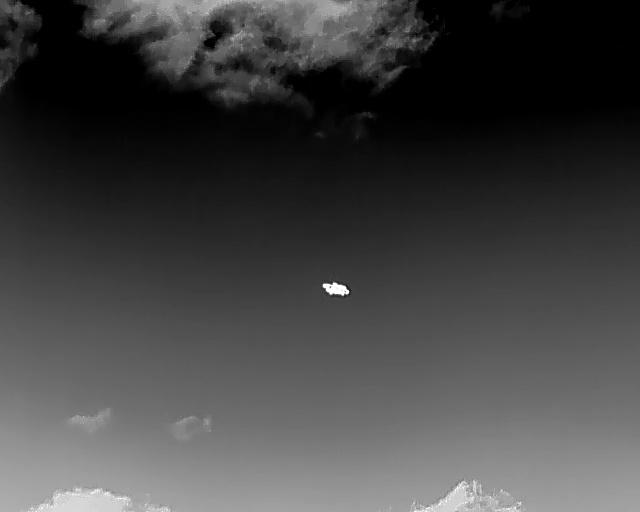fpv-drone: (322, 282, 349, 296)
